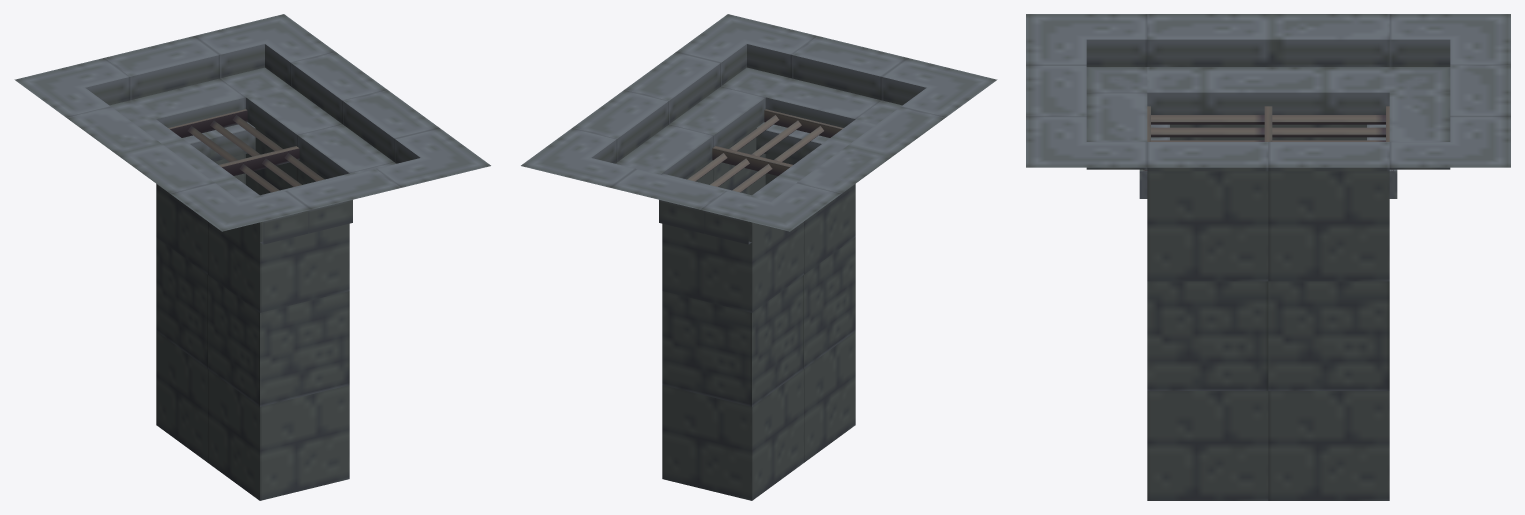
File: floor_element_5_blue.fbx
3 renders of one model, left to right at view 1: azimuth 30°, elevation 25°; view 2: azimuth 150°, elevation 25°; view 3: azimuth 270°, elevation 25°, orthographic. The views are drawn at different scales.
Visible parts, largest first — view 1: floor_element_5_blue; view 2: floor_element_5_blue; view 3: floor_element_5_blue.
Part boxes in pixels (left/top/right/bottom): floor_element_5_blue: left=14, top=14, right=490, bottom=500; floor_element_5_blue: left=521, top=14, right=997, bottom=500; floor_element_5_blue: left=1026, top=14, right=1510, bottom=500.
Bounding box in the file's own units: 48 × 56 × 64.
